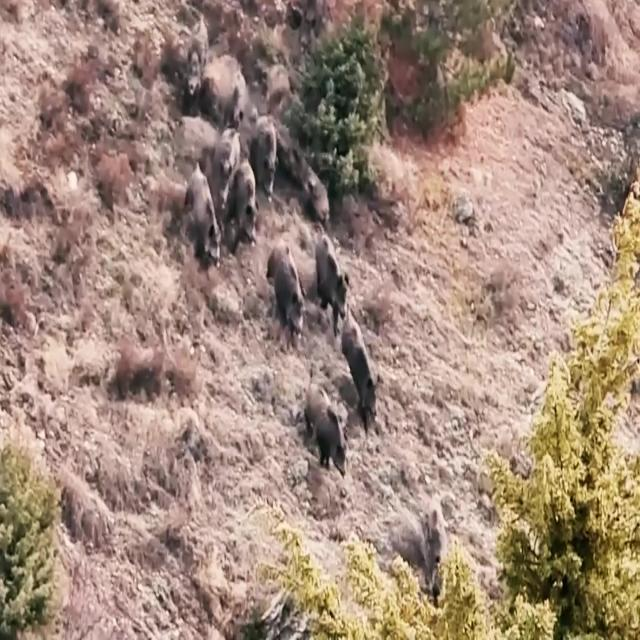pig: (336, 301, 392, 439), (298, 350, 348, 483), (178, 154, 221, 273), (272, 217, 306, 352), (238, 107, 282, 206), (308, 225, 352, 324), (277, 143, 331, 223), (208, 122, 242, 224), (235, 135, 259, 255), (178, 24, 206, 120)
